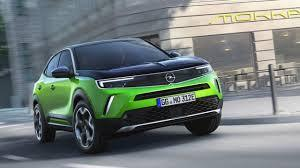opel: (165, 72, 176, 83)
